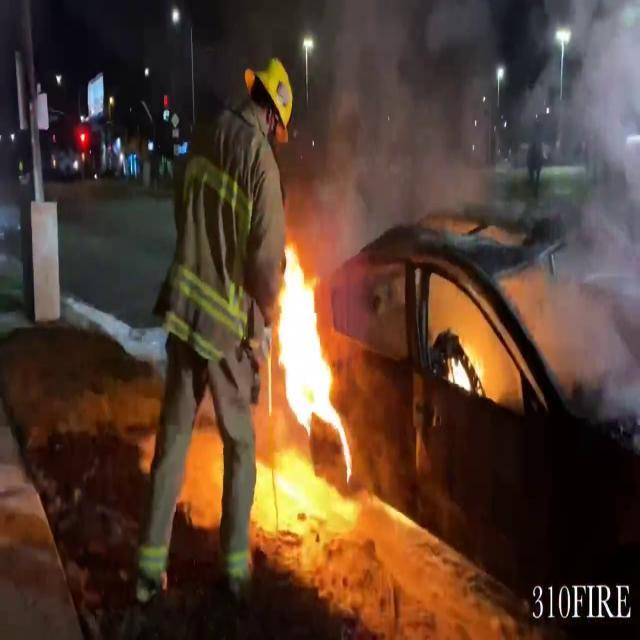Fire: (266, 237, 356, 508)
Smoke: (288, 0, 497, 261), (528, 1, 640, 432)
